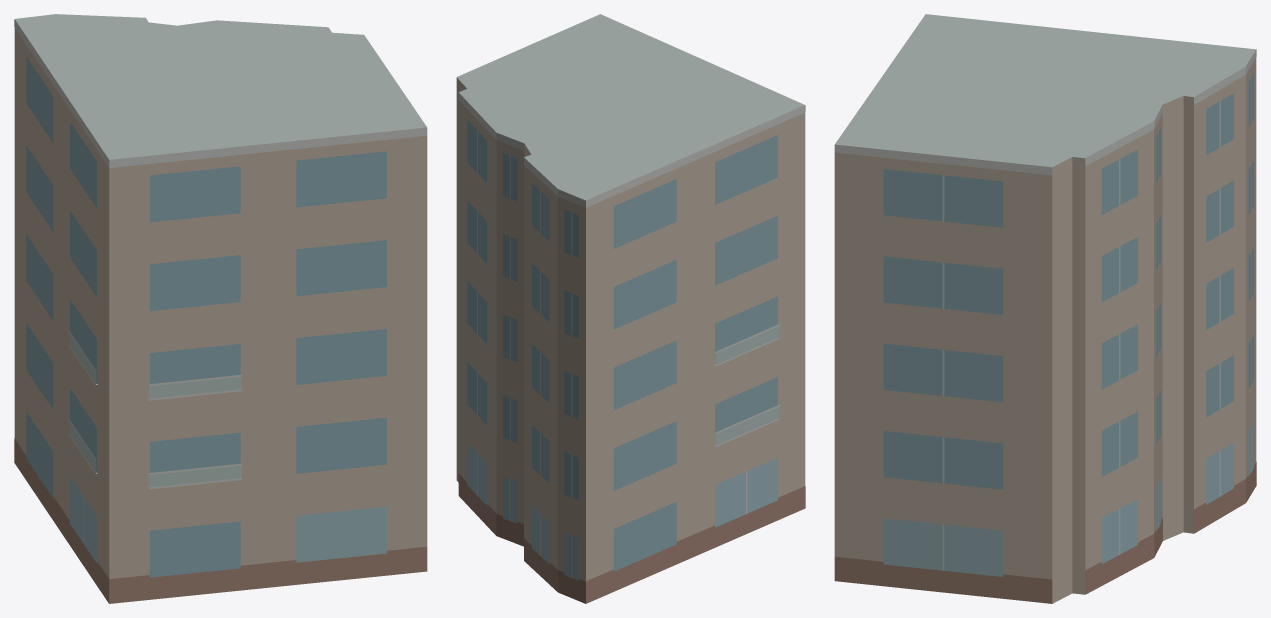
File: survey-upis-32721533.glb
3 renders of one model, left to right at view 1: azimuth 30°, elevation 25°; view 2: azimuth 150°, elevation 25°; view 3: azimuth 270°, elevation 25°, orthographic. The views are drawn at different scales.
Parts seen in each view (by area): view 1: survey-upis-32721533.tmp; view 2: survey-upis-32721533.tmp; view 3: survey-upis-32721533.tmp.
Part boxes in pixels (bbox=[...]): survey-upis-32721533.tmp: bbox=[14, 14, 427, 603]; survey-upis-32721533.tmp: bbox=[456, 14, 805, 603]; survey-upis-32721533.tmp: bbox=[834, 14, 1256, 603].
Bounding box in the file's own units: 9.95 × 13.2 × 11.57.
